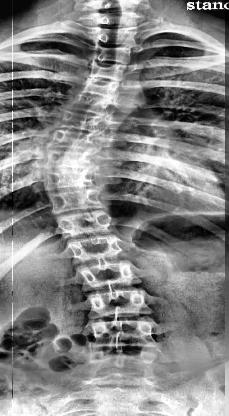Vertebrae: (88, 316, 156, 350), (85, 291, 149, 318), (57, 210, 116, 238), (77, 262, 137, 288), (70, 236, 124, 262), (60, 106, 110, 134), (45, 170, 102, 194), (86, 354, 152, 374), (50, 188, 104, 212), (47, 148, 101, 170), (53, 127, 105, 148), (75, 92, 115, 116), (92, 43, 132, 65), (98, 28, 136, 48), (86, 78, 120, 100), (91, 63, 127, 80)
